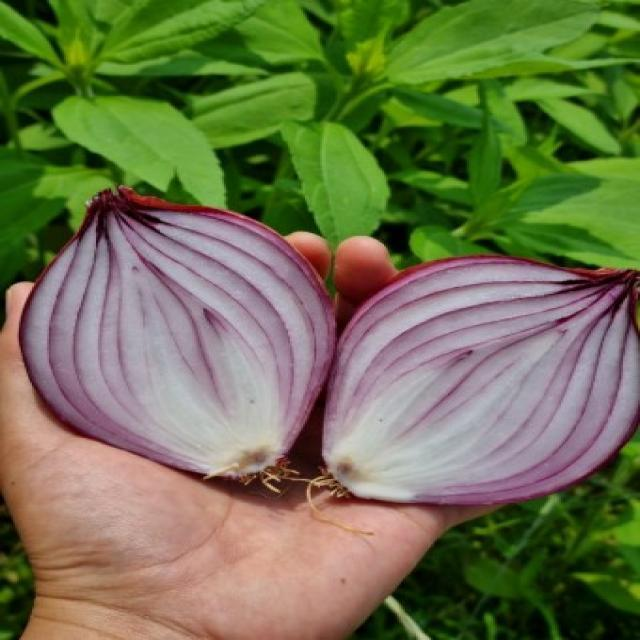Onion: (18, 183, 339, 498), (293, 249, 640, 535)
